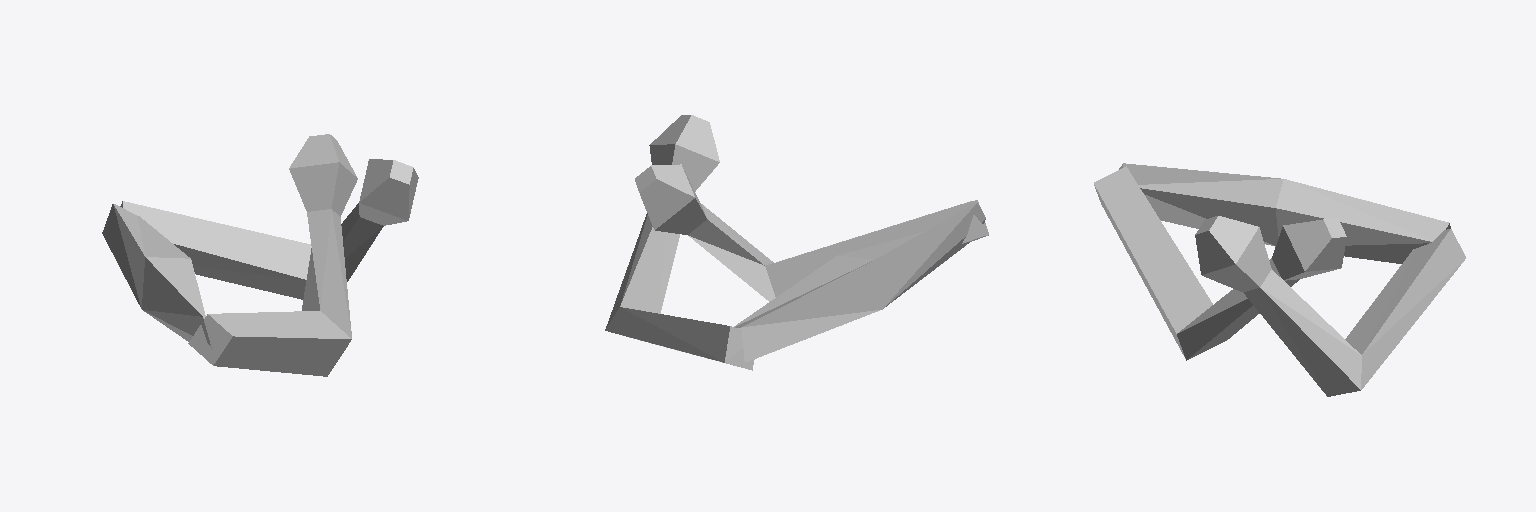
The model's file is handsBlock_000013.obj.
3 views of the same model, side by side, from view 1: azimuth 30°, elevation 25°; view 2: azimuth 150°, elevation 25°; view 3: azimuth 270°, elevation 25° (orthographic).
Visible parts, largest first — view 1: Cube; view 2: Cube; view 3: Cube.
Part boxes in pixels (x1,y1,x2,y2): Cube: (102, 134, 418, 376); Cube: (605, 115, 988, 370); Cube: (1094, 163, 1465, 396).
Size of the model in its own units: 4.46 by 2.8 by 5.12.